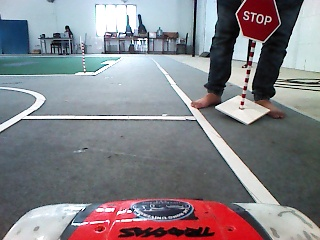stop: (233, 1, 284, 43)
